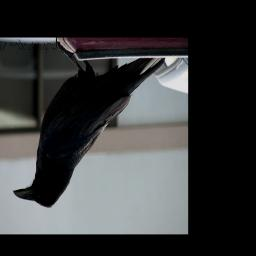Crow: (12, 40, 166, 208)
